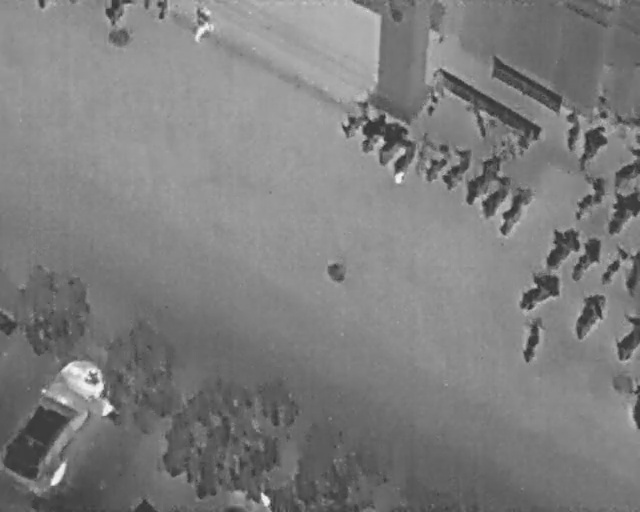Bicycle: (508, 261, 570, 323), (454, 148, 508, 208), (489, 179, 541, 240), (349, 101, 403, 159), (535, 217, 588, 276), (566, 116, 615, 179), (470, 167, 523, 224), (565, 287, 613, 347), (560, 230, 610, 287), (431, 139, 480, 197), (564, 172, 613, 228), (369, 118, 416, 171), (333, 92, 380, 144), (592, 240, 634, 288), (413, 71, 452, 120), (386, 133, 422, 186), (420, 138, 457, 186), (609, 184, 639, 237), (517, 314, 546, 367), (613, 308, 639, 363), (412, 127, 439, 179), (612, 139, 639, 191), (465, 86, 490, 141), (560, 103, 585, 152), (502, 124, 531, 162), (623, 248, 639, 300), (101, 0, 126, 26), (629, 384, 639, 430)
Car: (0, 357, 116, 494)
Person: (193, 6, 217, 44)
